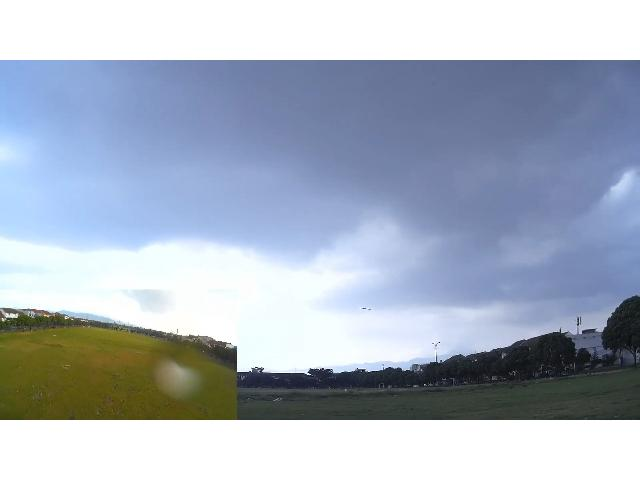Anti-Drone: (354, 296, 374, 314)
